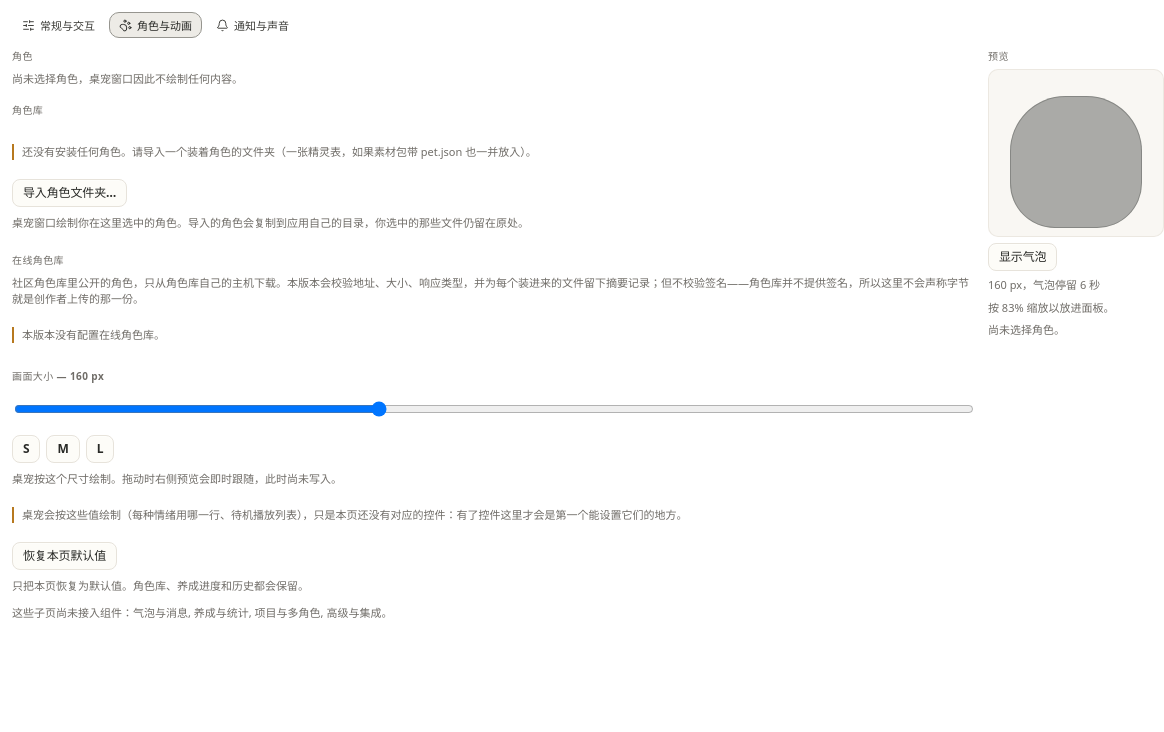
a write that did not happen › says it failed, keeps the draft, and writes it again on retry
The image size is (1164, 732).
Set the slider with test id "pet-character-size" to "240" at x=671, y=409, box x1=14 y1=393 x2=974 y2=425
Wait 600 ms
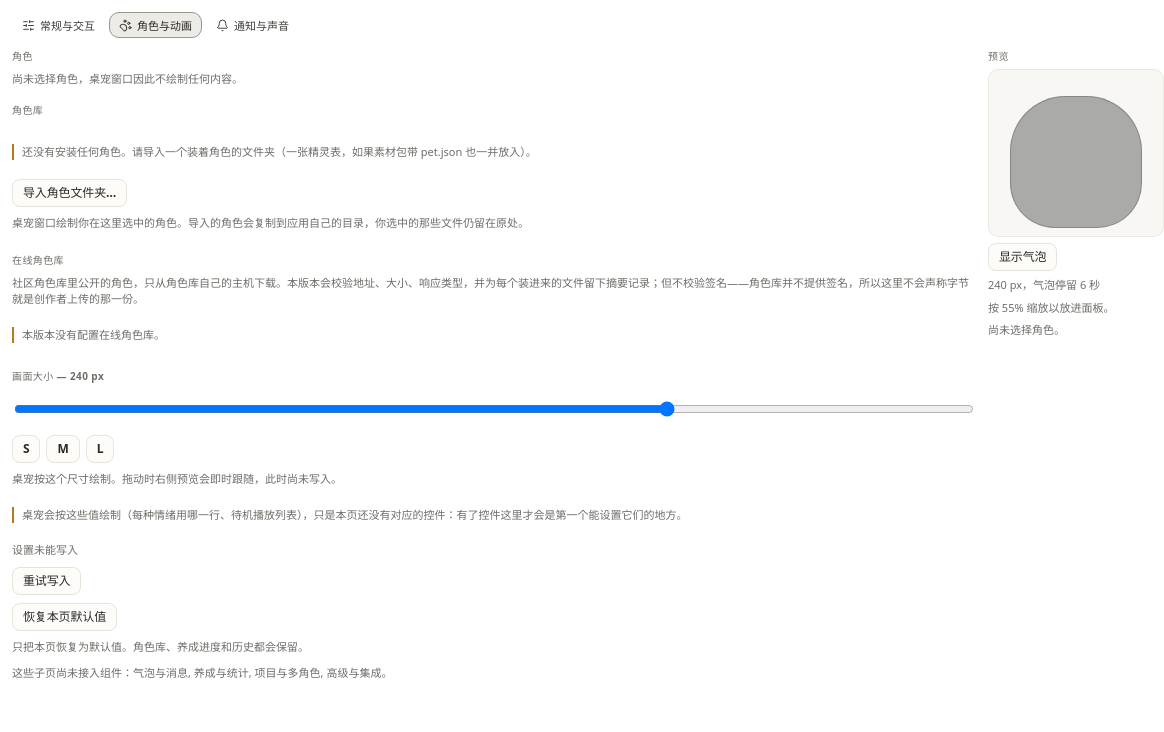
Check: the text "设置未能写入" is shown, box x1=12 y1=542 x2=78 y2=557
Click the button "重试写入" at x=47, y=580, box x1=12 y1=566 x2=81 y2=594
Wait 600 ms
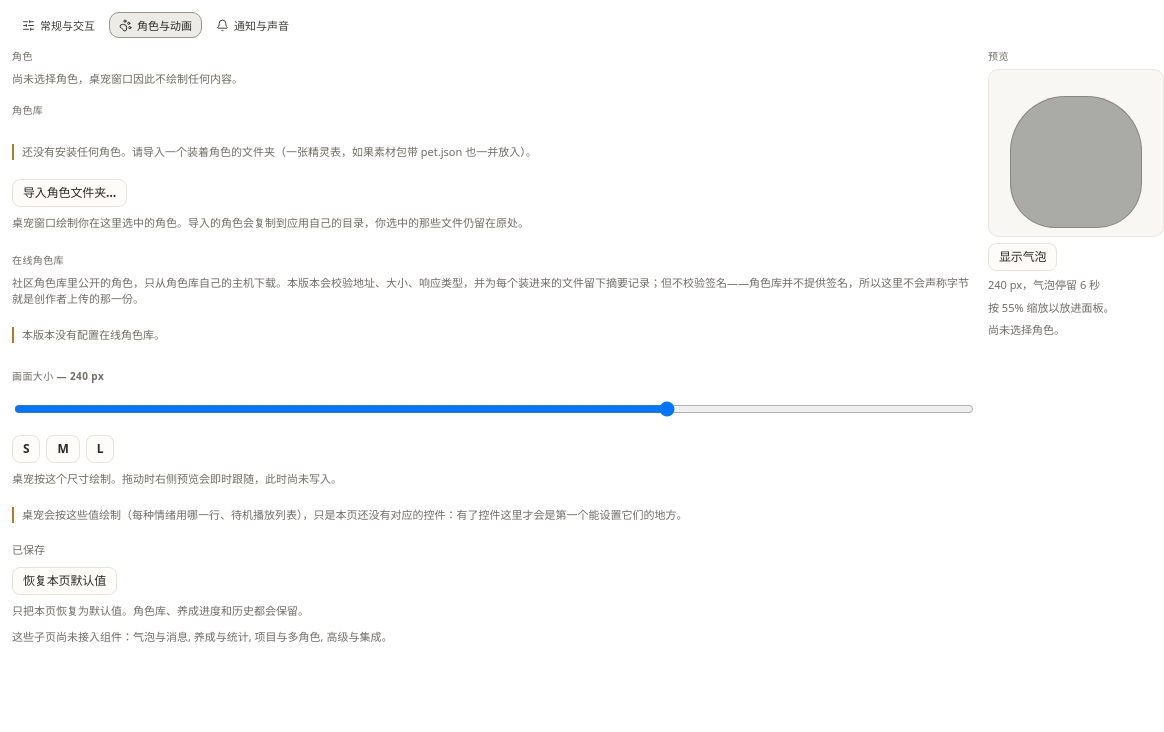
Check: the text "已保存" is shown, box x1=12 y1=542 x2=45 y2=557
